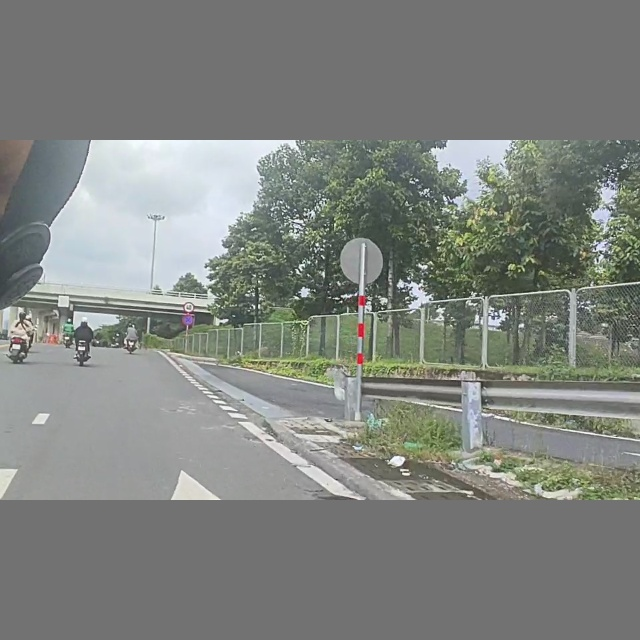P.127*40: (183, 302, 195, 312)
P.130: (183, 314, 195, 325)
